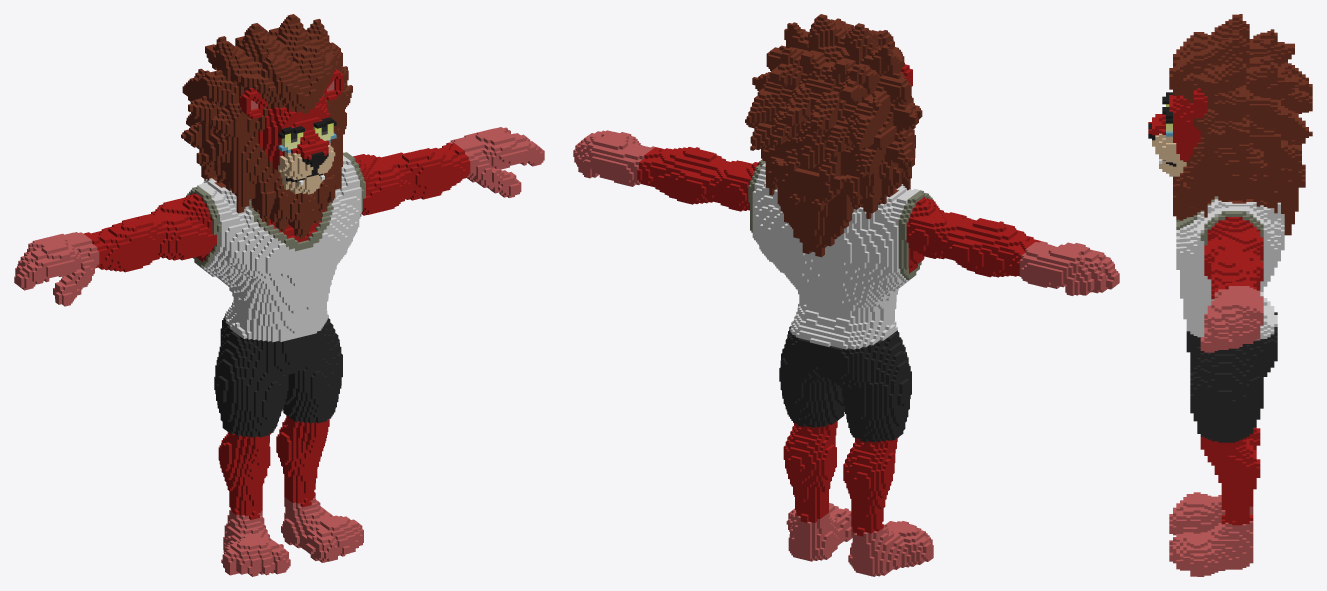
Rendered from 826-K54UXSBI.fbx.
The picture shows the model from 3 angles, left to right: view 1: azimuth 30°, elevation 25°; view 2: azimuth 150°, elevation 25°; view 3: azimuth 270°, elevation 25°; orthographic projection. The views are drawn at different scales.
Parts seen in each view (by area): view 1: standard; view 2: standard; view 3: standard.
Part boxes in pixels (x1,y1,x2,y2): standard: (14,14,544,576); standard: (573,14,1119,576); standard: (1148,14,1312,576).
Bounding box in the file's own units: 17.2 × 16.5 × 4.7.
Materials: 5 (5 with a texture image).
